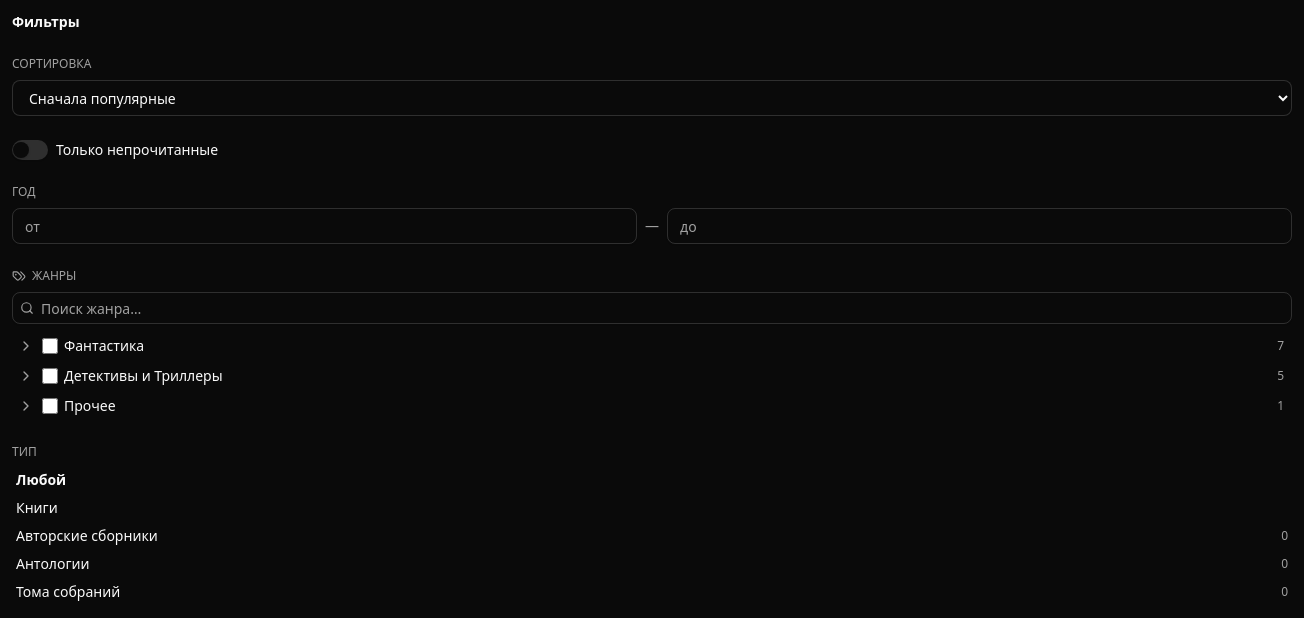
Test: FiltersSidebar › поиск без совпадений показывает «Ничего не найдено»
Expected: the button "Фантастика" is shown, [64, 336, 1271, 356]
Type "zzzнеттакого" into the search field labelled "Поиск жанра" at (652, 308), box [12, 292, 1292, 324]
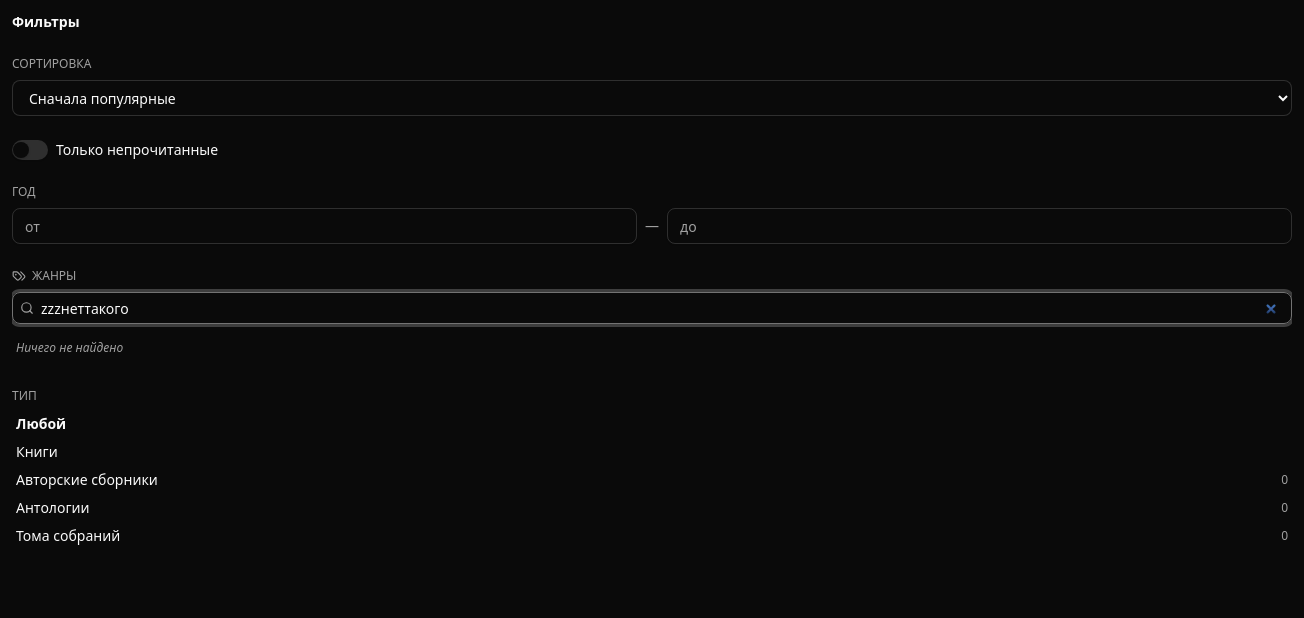
Expected: the text "Ничего не найдено" is shown, [16, 339, 123, 356]
